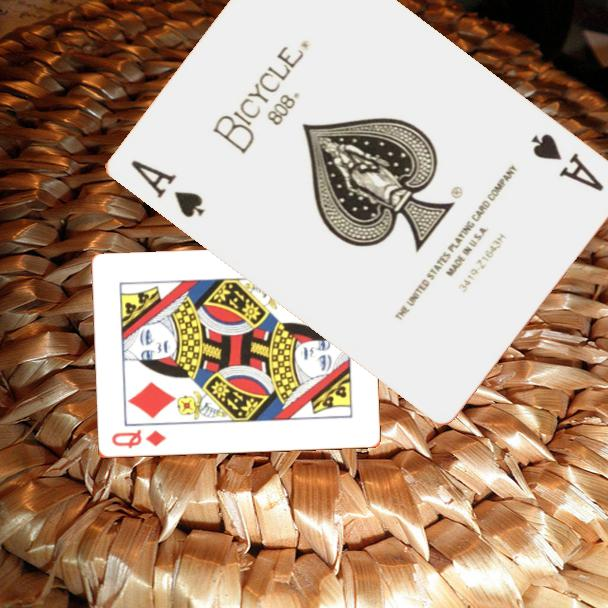d12: (108, 426, 169, 452)
s01: (126, 156, 208, 221), (526, 129, 606, 194)
